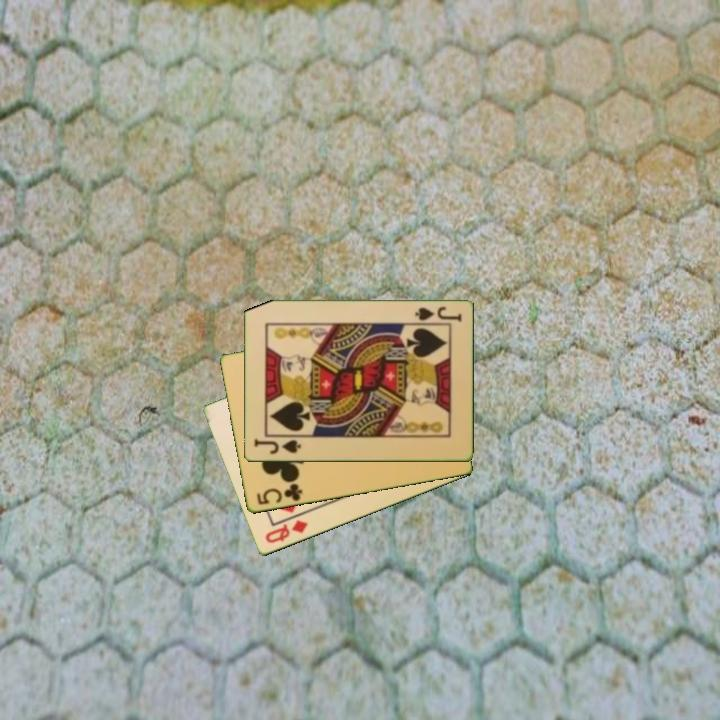5c: (253, 480, 305, 508)
Js: (251, 435, 304, 457), (411, 303, 464, 325)
Qd: (261, 517, 311, 546)
